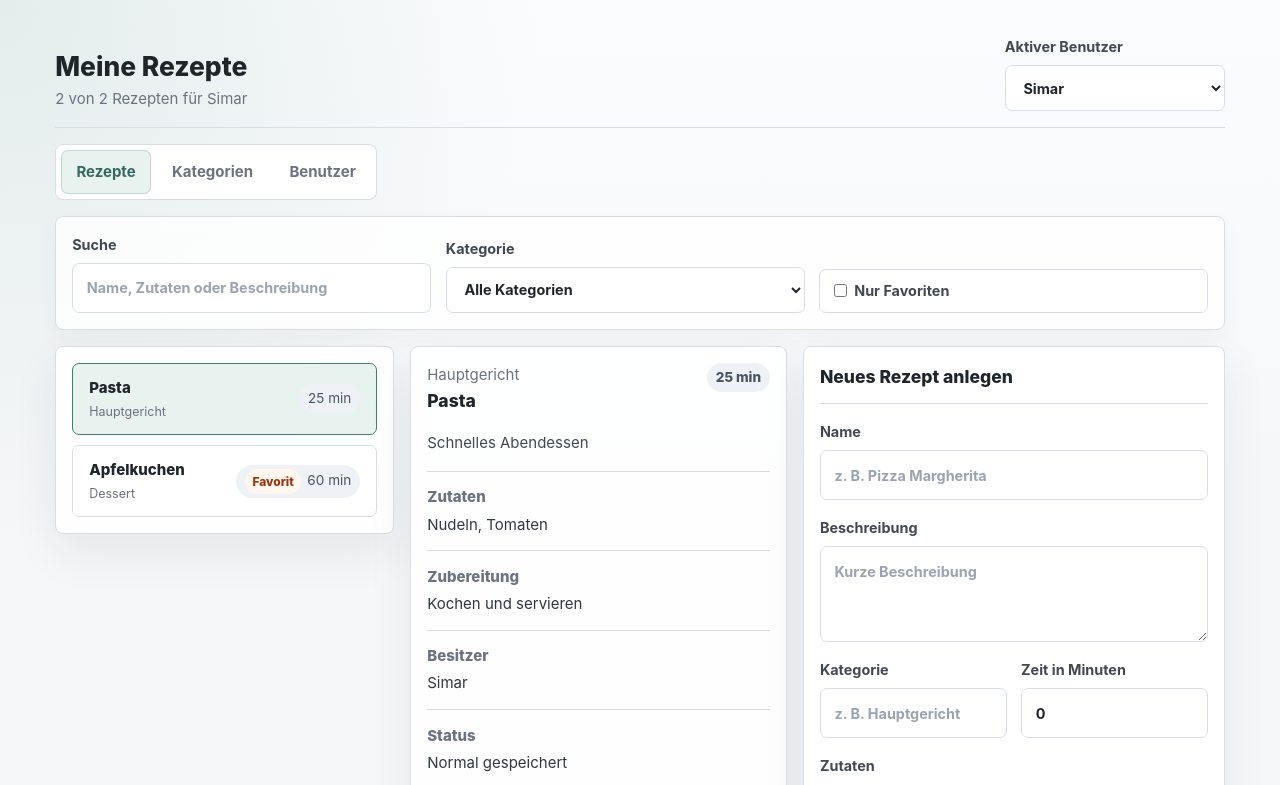
RecipeList › creates a user in the users section
Click the button "Benutzer": coordinates (323, 172) x1=274 y1=150 x2=371 y2=194
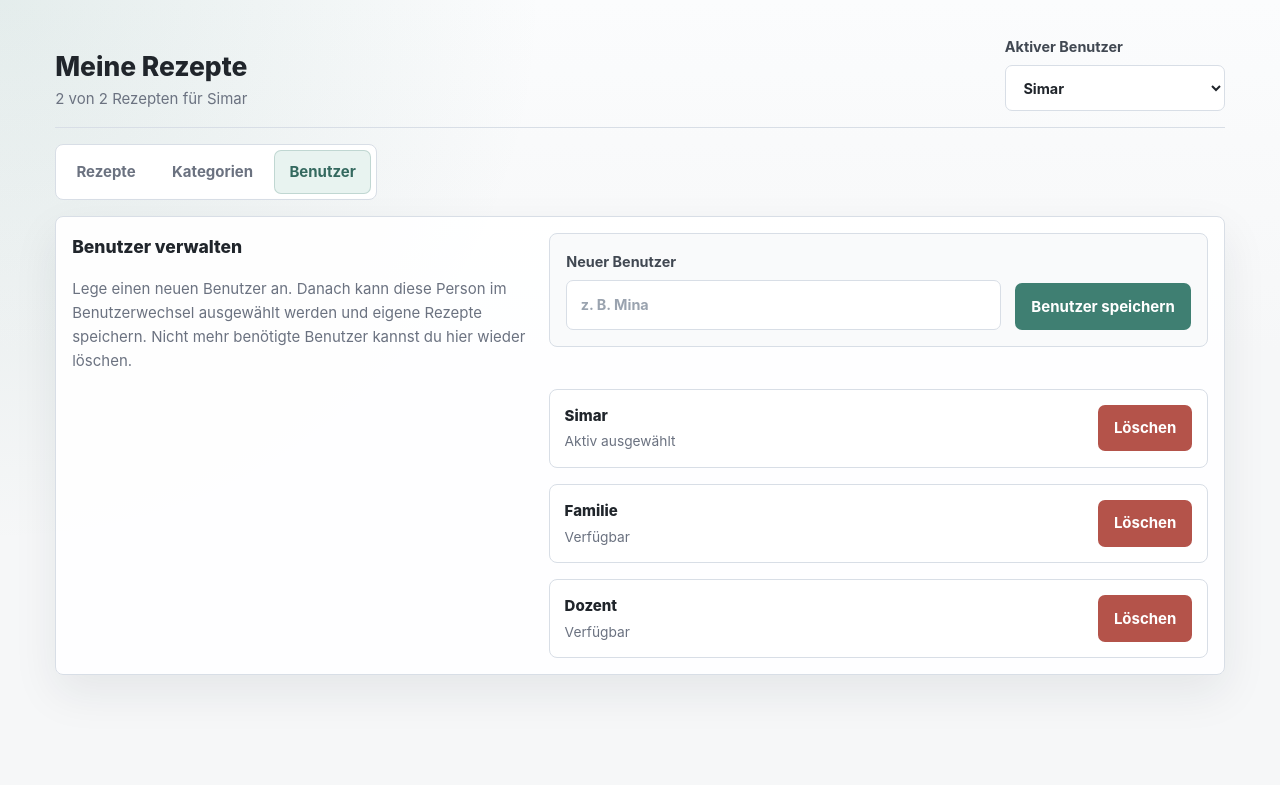
In the field with placeholder "z. B. Mina": coordinates (784, 305) x1=566 y1=280 x2=1001 y2=330, type "Mina"
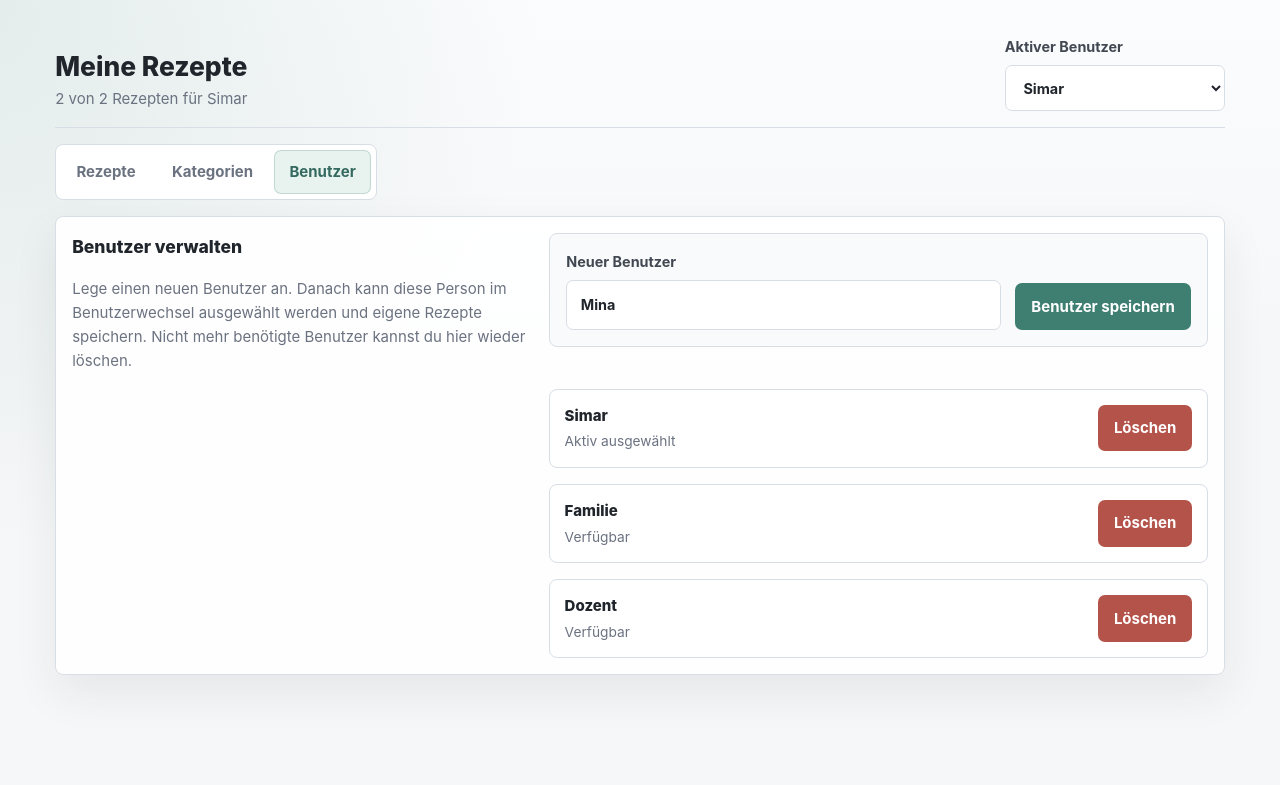
Submit the form with class "category-form", box x1=549 y1=232 x2=1208 y2=347
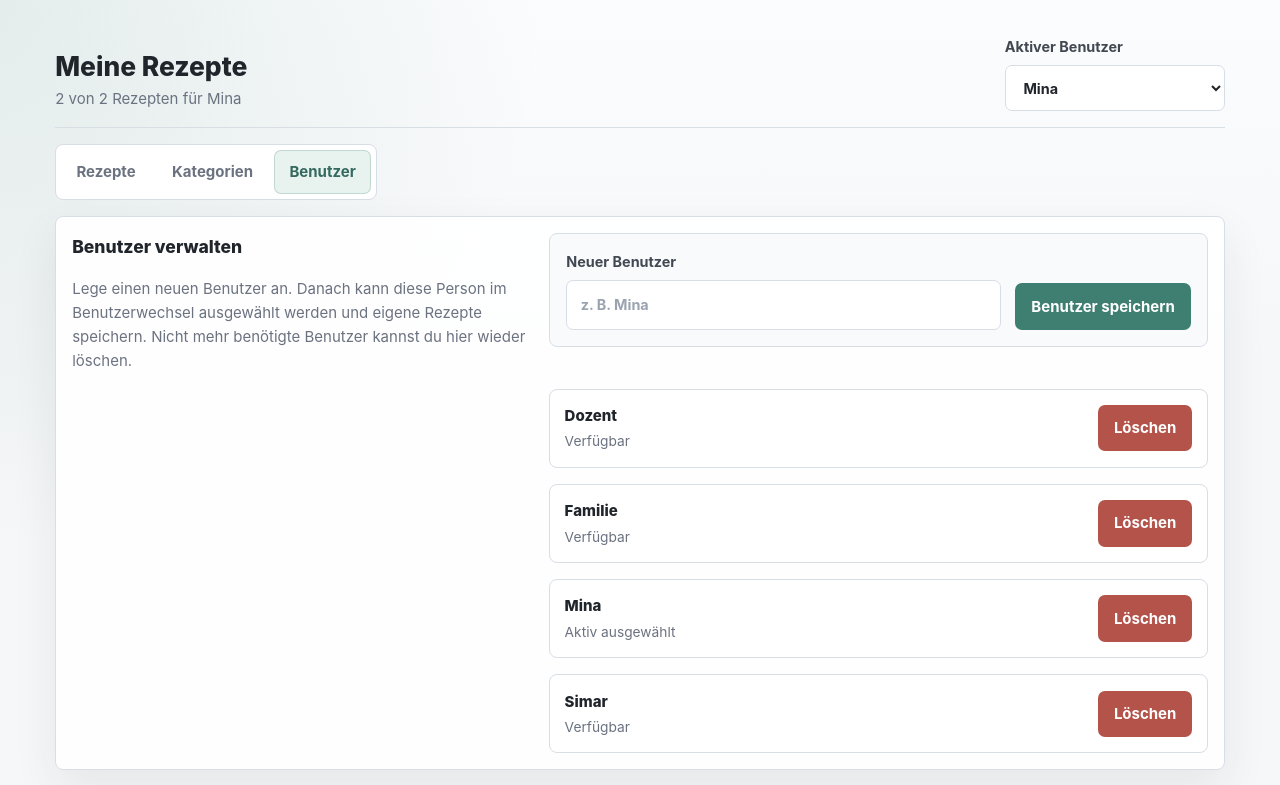
Expected: the dropdown labelled "Aktiver Benutzer" shows "Mina", x1=1005 y1=65 x2=1225 y2=111
